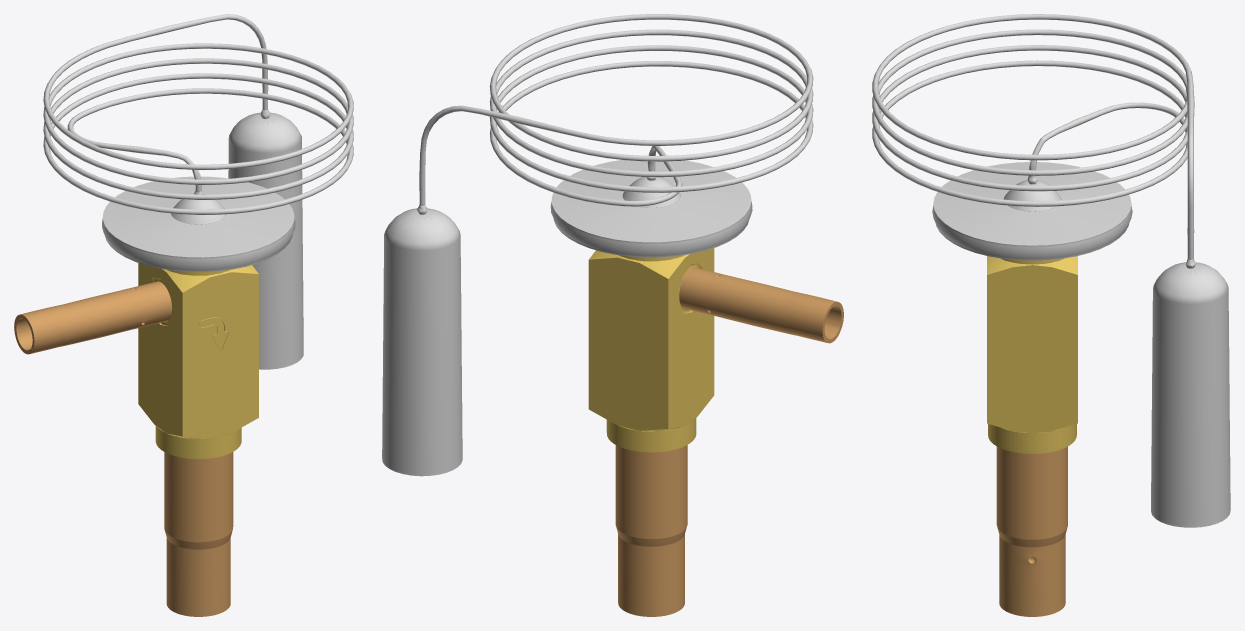
File: TD1Angleway.glb
The picture shows the model from 3 angles, left to right: view 1: azimuth 30°, elevation 25°; view 2: azimuth 150°, elevation 25°; view 3: azimuth 270°, elevation 25°; orthographic projection. The views are drawn at different scales.
Visible parts, largest first — view 1: TD1; view 2: TD1; view 3: TD1.
Boxes of the visible parts, bbox=[...] form: TD1: bbox=[14, 14, 353, 616]; TD1: bbox=[382, 14, 843, 616]; TD1: bbox=[872, 14, 1230, 616].
Bounding box in the file's own units: 0.0735 × 0.1021 × 0.0629.
